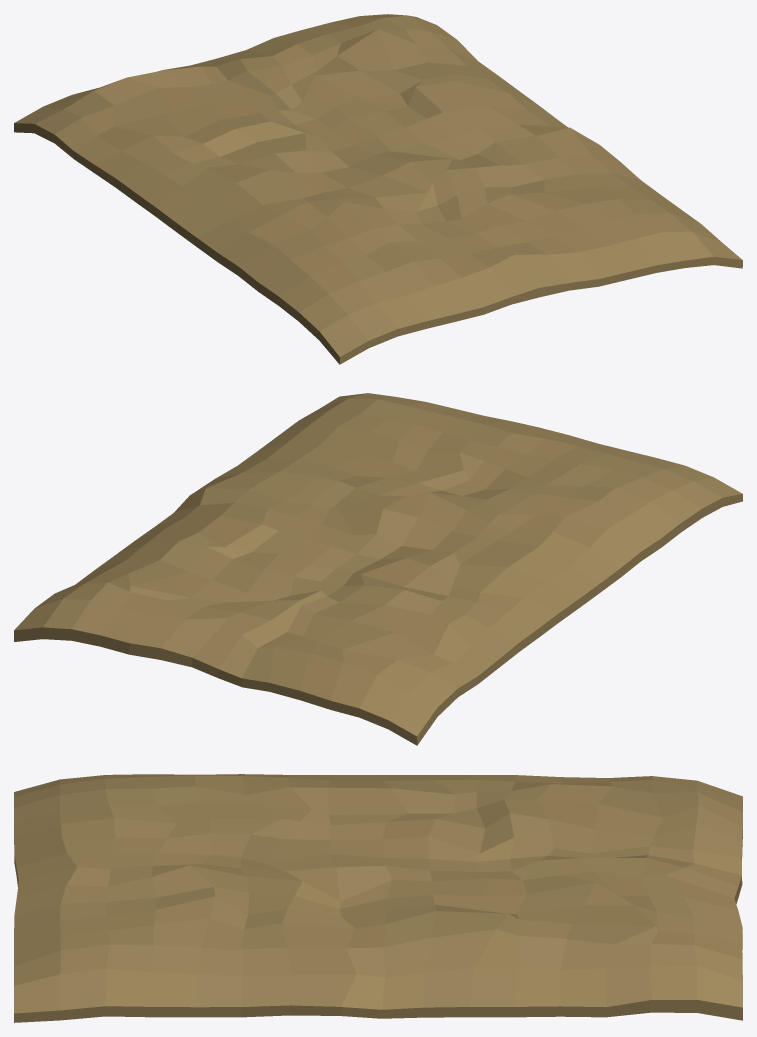
The model's file is land2.fbx.
The picture shows the model from 3 angles, top to bottom: view 1: azimuth 30°, elevation 25°; view 2: azimuth 150°, elevation 25°; view 3: azimuth 270°, elevation 25°; orthographic projection. The views are drawn at different scales.
Parts seen in each view (by area): view 1: Cube; view 2: Cube; view 3: Cube.
Part boxes in pixels (x1,y1,x2,y2): Cube: [14, 14, 742, 364]; Cube: [14, 393, 742, 745]; Cube: [14, 774, 742, 1022].
Bounding box in the file's own units: 817 × 99.92 × 1132.
